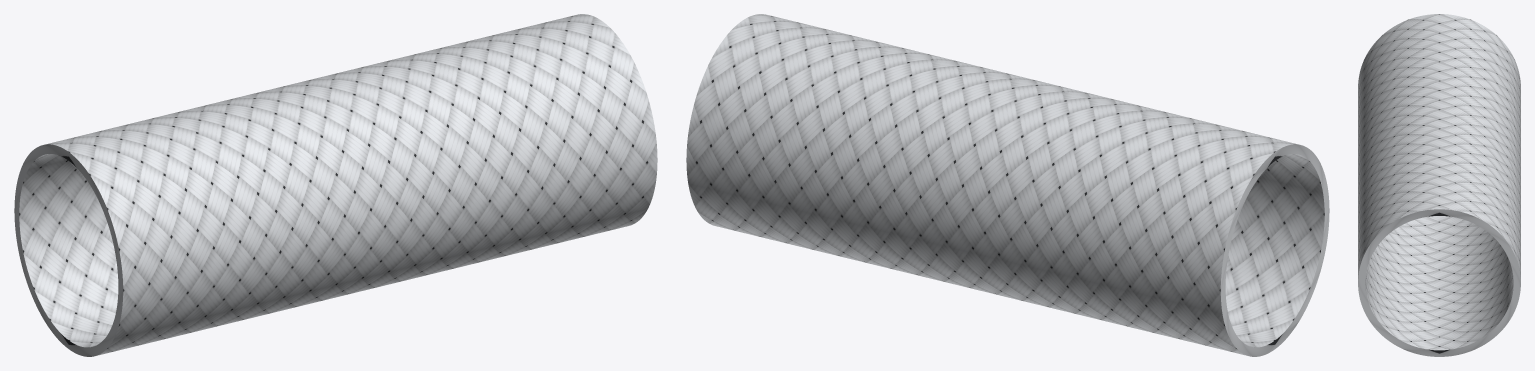
The model's file is mangueira_tranca.glb.
3 renders of one model, left to right at view 1: azimuth 30°, elevation 25°; view 2: azimuth 150°, elevation 25°; view 3: azimuth 270°, elevation 25°, orthographic. The views are drawn at different scales.
Visible parts, largest first — view 1: tranca; view 2: tranca; view 3: tranca.
Part boxes in pixels (x1,y1,x2,y2): tranca: [14, 14, 657, 356]; tranca: [686, 14, 1329, 356]; tranca: [1358, 14, 1520, 356].
Bounding box in the file's own units: 3.8 × 1.34 × 1.34.
Materials: 1 (1 with a texture image).
